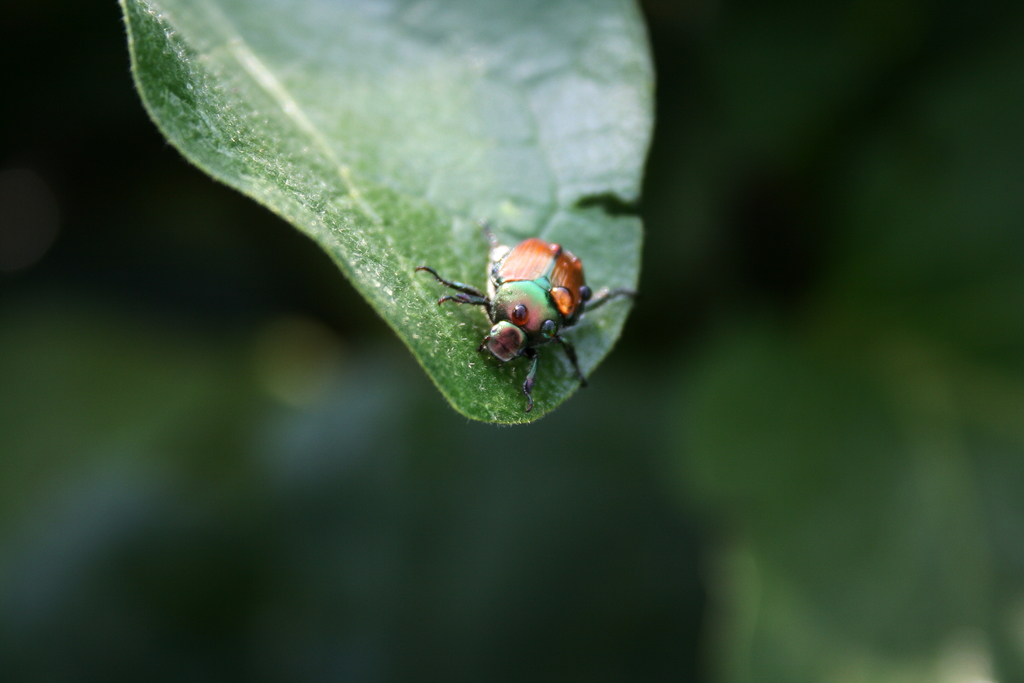person: (414, 234, 591, 410)
